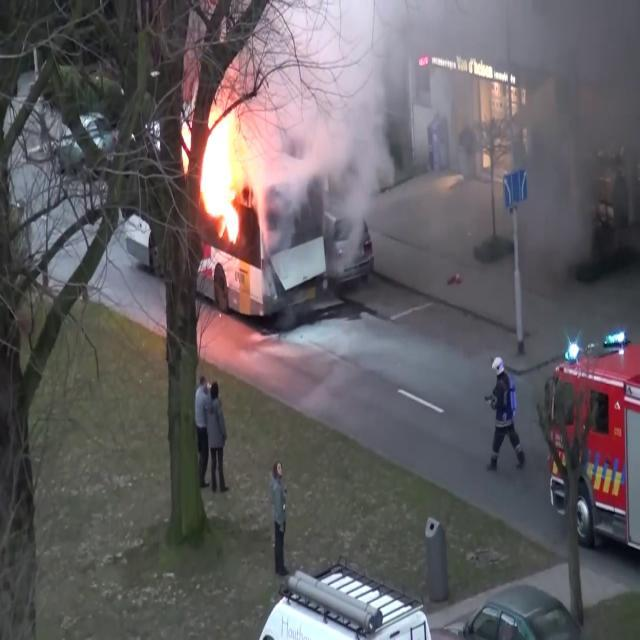Fire: (196, 100, 253, 249)
Smoke: (249, 0, 438, 272), (498, 0, 640, 280)
